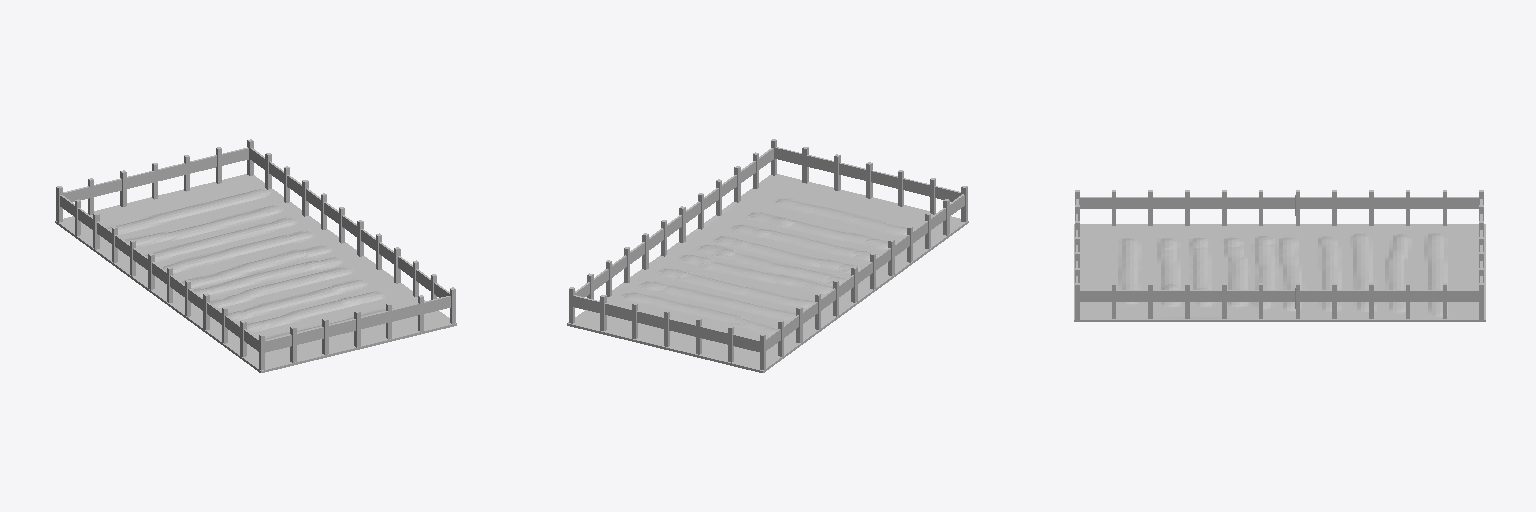
The model's file is farm.obj.
The picture shows the model from 3 angles: view 1: azimuth 30°, elevation 25°; view 2: azimuth 150°, elevation 25°; view 3: azimuth 270°, elevation 25°; orthographic projection.
Visible parts, largest first — view 1: group5 pPlane1, pCube1 group5, pCube38 polySurface37, pCube38 polySurface26, pCube38 polySurface22, pCube38 polySurface39, pCube38 polySurface27, pCube38 polySurface14, pCube38 polySurface18, pCube38 polySurface16; view 2: group5 pPlane1, pCube1 group5, pCube38 polySurface21, pCube38 polySurface27, pCube38 polySurface22, pCube38 polySurface18, pCube38 polySurface17, pCube38 polySurface37, pCube38 polySurface26, pCube38 polySurface14, pCube38 polySurface23, pCube38 polySurface15; view 3: group5 pPlane1, pCube1 group5, pCube38 polySurface7, pCube38 polySurface9, pCube38 polySurface31, pCube38 polySurface33, pCube38 polySurface2, pCube38 polySurface36, pCube38 polySurface35, pCube38 polySurface10, pCube38 polySurface13, pCube38 polySurface19 (+10 smaller).
Part boxes in pixels (left/top/right/bottom): group5 pPlane1: left=69, top=177, right=449, bottom=365; pCube1 group5: left=55, top=174, right=456, bottom=372; pCube38 polySurface37: left=94, top=170, right=126, bottom=206; pCube38 polySurface26: left=297, top=318, right=328, bottom=354; pCube38 polySurface22: left=329, top=311, right=360, bottom=347; pCube38 polySurface39: left=265, top=326, right=296, bottom=362; pCube38 polySurface27: left=190, top=147, right=221, bottom=183; pCube38 polySurface14: left=158, top=155, right=189, bottom=191; pCube38 polySurface18: left=392, top=295, right=423, bottom=331; pCube38 polySurface16: left=424, top=287, right=455, bottom=323; group5 pPlane1: left=575, top=176, right=955, bottom=364; pCube1 group5: left=567, top=174, right=968, bottom=372; pCube38 polySurface21: left=834, top=154, right=865, bottom=190; pCube38 polySurface27: left=600, top=295, right=631, bottom=330; pCube38 polySurface22: left=866, top=162, right=897, bottom=198; pCube38 polySurface18: left=802, top=147, right=833, bottom=183; pCube38 polySurface17: left=728, top=326, right=759, bottom=362; pCube38 polySurface37: left=696, top=318, right=727, bottom=354; pCube38 polySurface26: left=898, top=170, right=929, bottom=206; pCube38 polySurface14: left=632, top=302, right=663, bottom=338; pCube38 polySurface23: left=664, top=310, right=695, bottom=346; pCube38 polySurface15: left=569, top=287, right=599, bottom=323; group5 pPlane1: left=1083, top=228, right=1474, bottom=318; pCube1 group5: left=1074, top=224, right=1485, bottom=321; pCube38 polySurface7: left=1190, top=190, right=1226, bottom=225; pCube38 polySurface9: left=1337, top=190, right=1373, bottom=225; pCube38 polySurface31: left=1300, top=283, right=1336, bottom=318; pCube38 polySurface33: left=1337, top=283, right=1373, bottom=318; pCube38 polySurface2: left=1116, top=283, right=1152, bottom=318; pCube38 polySurface36: left=1153, top=283, right=1189, bottom=318; pCube38 polySurface35: left=1190, top=283, right=1226, bottom=318; pCube38 polySurface10: left=1300, top=190, right=1336, bottom=225; pCube38 polySurface13: left=1153, top=190, right=1189, bottom=225; pCube38 polySurface19: left=1116, top=190, right=1152, bottom=225.
Size of the model in its own units: 5.44 by 0.9782 by 9.9.